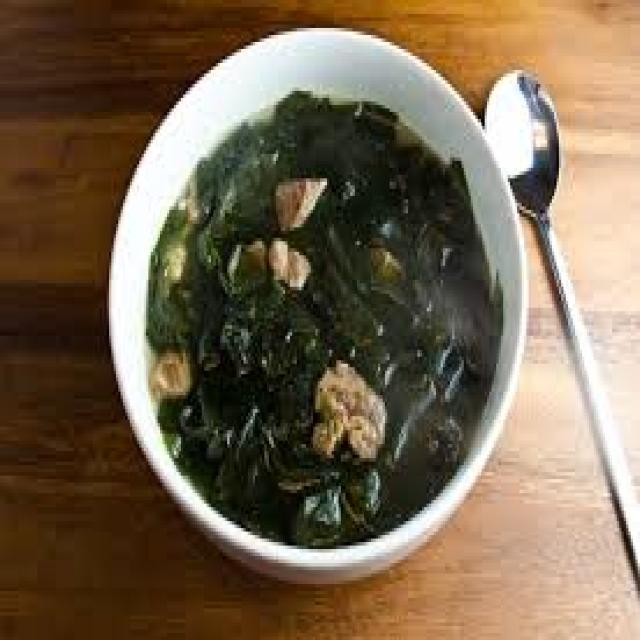canh rong bien: (144, 91, 501, 546)
